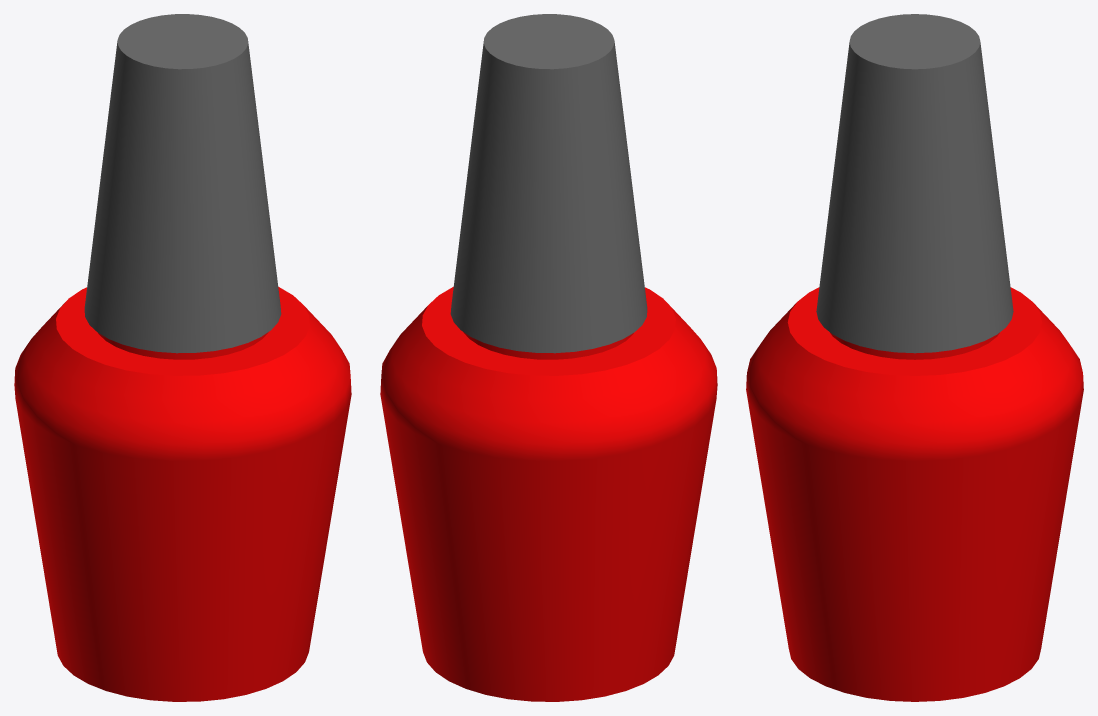
The model's file is nailpaint.fbx.
3 views of the same model, side by side, from view 1: azimuth 30°, elevation 25°; view 2: azimuth 150°, elevation 25°; view 3: azimuth 270°, elevation 25° (orthographic).
Parts seen in each view (by area): view 1: bottle.001, cap; view 2: bottle.001, cap; view 3: bottle.001, cap.
Part boxes in pixels (<box>): bottle.001: <box>14,287,351,701</box>; cap: <box>84,14,281,353</box>; bottle.001: <box>380,287,717,701</box>; cap: <box>450,14,647,353</box>; bottle.001: <box>746,287,1083,701</box>; cap: <box>816,14,1013,353</box>.
Bounding box in the file's own units: 37.77 × 74.89 × 37.77.
